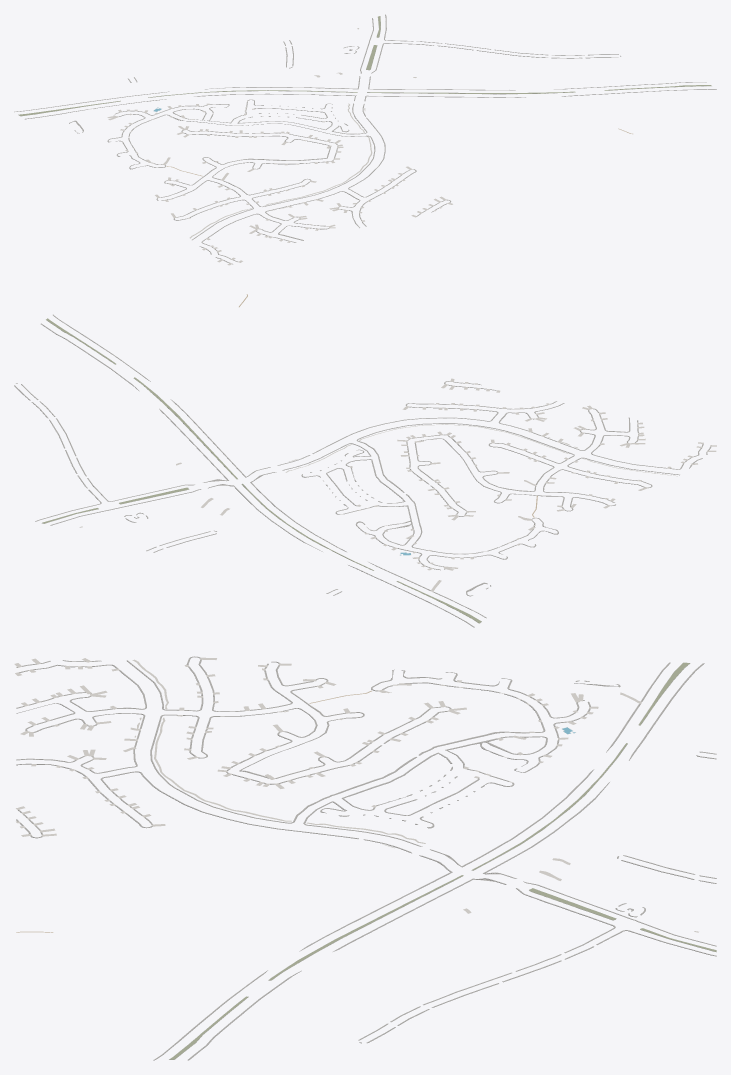
Rendered from ground_r4_c5.glb.
The picture shows the model from 3 angles, top to bottom: view 1: azimuth 30°, elevation 25°; view 2: azimuth 150°, elevation 25°; view 3: azimuth 270°, elevation 25°; orthographic projection. The views are drawn at different scales.
Parts seen in each view (by area): view 1: sidewalks, driveways, medians, paths; view 2: sidewalks, driveways, medians, paths; view 3: sidewalks, driveways, medians, paths.
Boxes of the visible parts, left/top/right/bottom form: sidewalks: left=14, top=14, right=716, bottom=264; driveways: left=89, top=28, right=452, bottom=265; medians: left=18, top=16, right=711, bottom=116; paths: left=167, top=103, right=632, bottom=238; sidewalks: left=14, top=314, right=711, bottom=627; driveways: left=79, top=378, right=716, bottom=591; medians: left=42, top=318, right=481, bottom=623; paths: left=239, top=294, right=677, bottom=517; sidewalks: left=16, top=656, right=716, bottom=1060; driveways: left=14, top=657, right=698, bottom=932; medians: left=169, top=662, right=716, bottom=1059; paths: left=16, top=659, right=425, bottom=932.
Size of the model in its own units: 1131 by 67.42 by 790.
